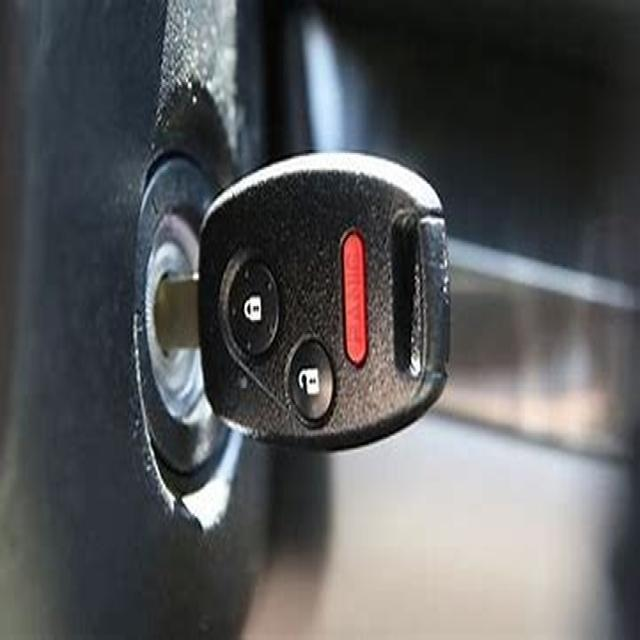key: (161, 160, 457, 447)
